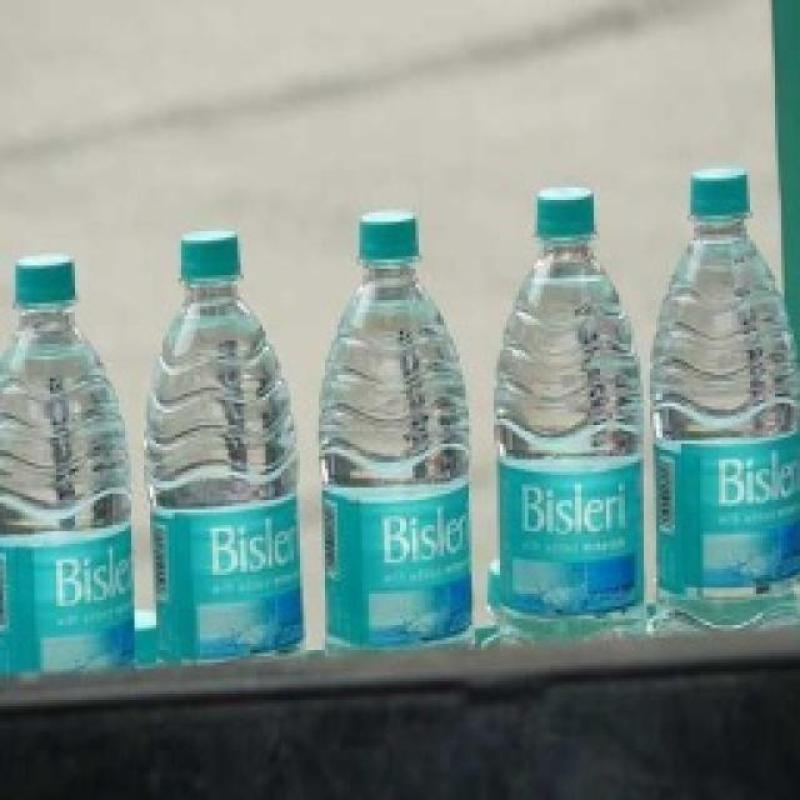botella: (650, 167, 800, 642), (314, 211, 476, 649), (147, 232, 309, 656), (499, 186, 649, 636), (0, 252, 140, 672)
